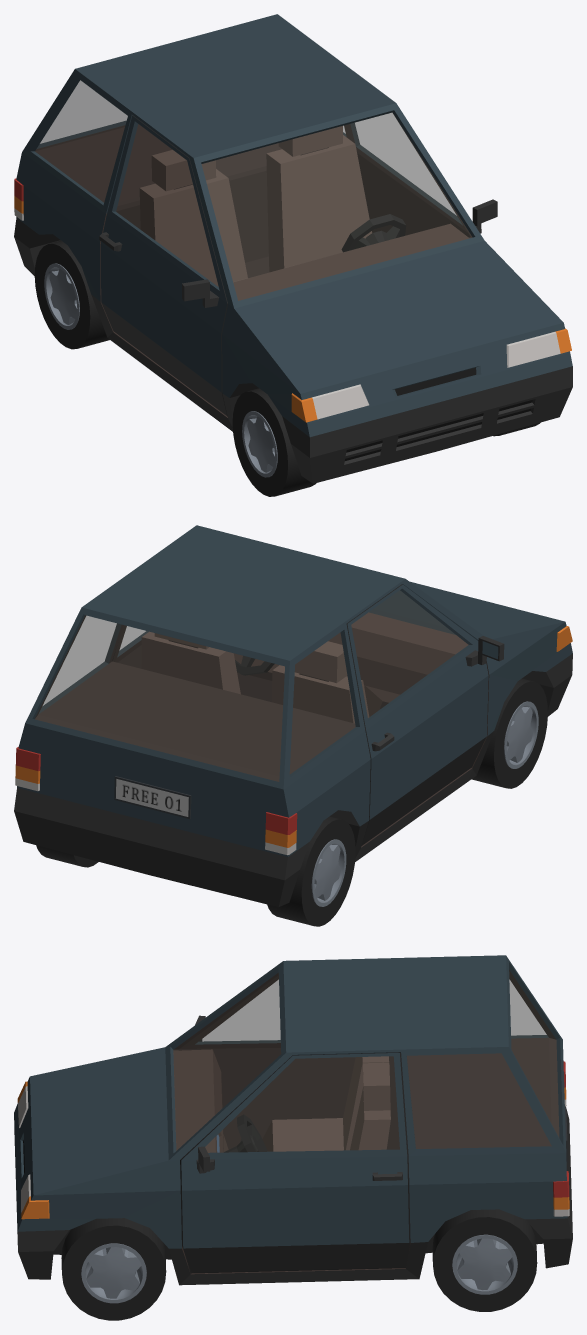
Rendered from crap.glb.
3 renders of one model, top to bottom at view 1: azimuth 30°, elevation 25°; view 2: azimuth 150°, elevation 25°; view 3: azimuth 270°, elevation 25°, orthographic. The views are drawn at different scales.
Parts seen in each view (by area): view 1: car body, windows, interior, door r, win door r.001, wheel fr, door l, wheel br, win door l.001; view 2: car body, windows, door r, interior, win door r.001, wheel br, wheel fr, free number, door l, wheel bl; view 3: car body, door l, windows, win door l.001, interior, door r, wheel bl, wheel fl, win door r.001.
Part boxes in pixels (x1,y1,x2,y2): car body: (14, 14, 572, 483); windows: (35, 80, 471, 300); interior: (139, 126, 469, 300); door r: (99, 115, 227, 416); win door r.001: (116, 124, 218, 286); wheel fr: (232, 388, 316, 496); door l: (346, 113, 497, 237); wheel br: (34, 240, 109, 349); win door l.001: (351, 113, 461, 223); car body: (14, 525, 572, 907); windows: (35, 591, 453, 781); door r: (346, 584, 504, 845); interior: (141, 612, 468, 723); win door r.001: (351, 590, 467, 717); wheel br: (267, 816, 355, 926); wheel fr: (471, 678, 547, 788); free number: (114, 776, 191, 819); door l: (112, 625, 148, 668); wheel bl: (36, 845, 98, 867); car body: (14, 955, 572, 1285); door l: (180, 1052, 410, 1273); windows: (173, 970, 558, 1150); win door l.001: (205, 1056, 399, 1152); interior: (173, 1049, 390, 1152); door r: (178, 975, 399, 1149); wheel bl: (432, 1209, 537, 1311); wheel fl: (61, 1218, 166, 1320); win door r.001: (197, 980, 280, 1043).
Size of the model in its own units: 2.07 by 1.7 by 3.31.
Materials: 2 (2 with a texture image).
